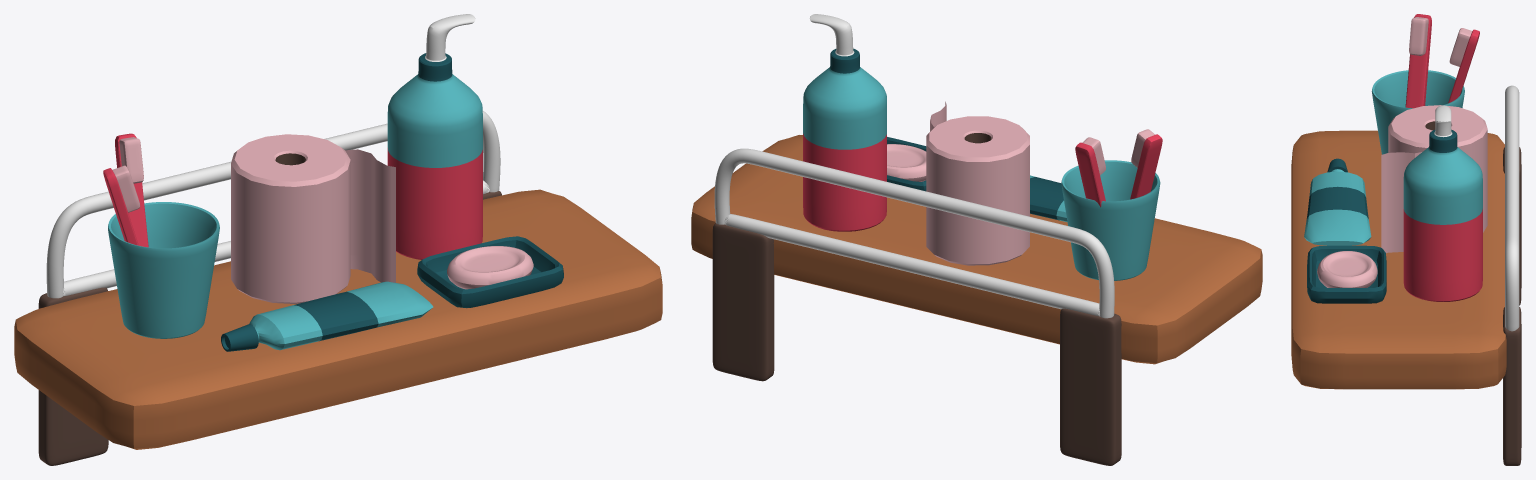
The model's file is Rak (Group Set).fbx.
The picture shows the model from 3 angles, left to right: view 1: azimuth 30°, elevation 25°; view 2: azimuth 150°, elevation 25°; view 3: azimuth 270°, elevation 25°; orthographic projection. The views are drawn at different scales.
Visible parts, largest first — view 1: Tissue.001; view 2: Tissue.001; view 3: Tissue.001.
Boxes of the visible parts, x1=… form: Tissue.001: x1=14, y1=14, x2=662, y2=465; Tissue.001: x1=691, y1=14, x2=1262, y2=465; Tissue.001: x1=1291, y1=14, x2=1521, y2=465.
Bounding box in the file's own units: 135 × 90.8 × 58.84.
